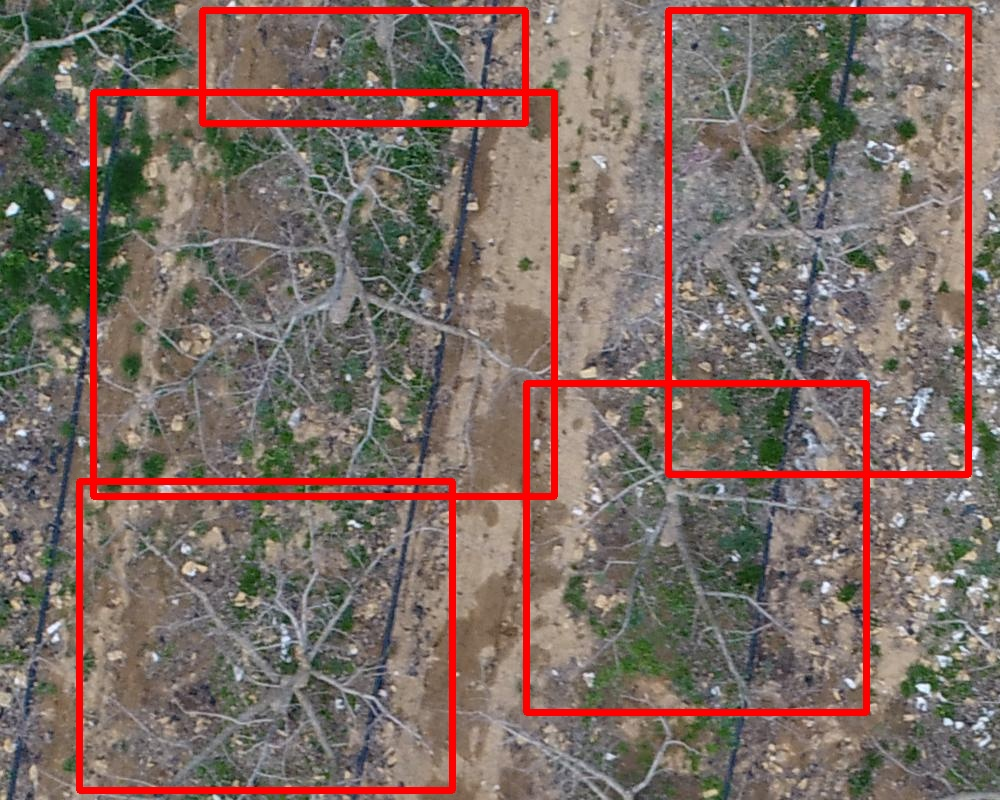apple: (93, 92, 554, 496), (668, 10, 968, 474), (79, 481, 452, 790), (526, 383, 866, 712), (202, 10, 525, 123)
